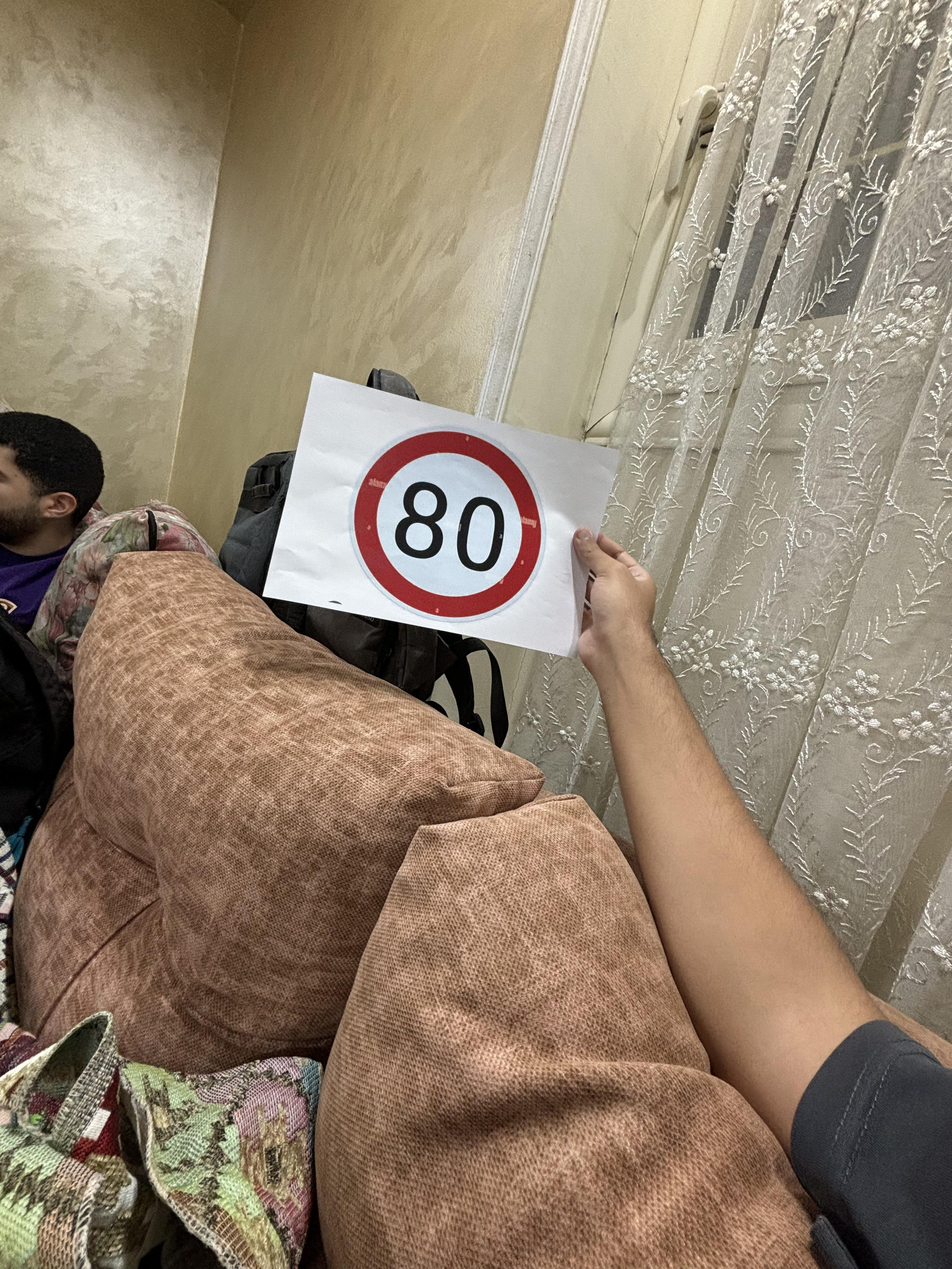80-Speed: (354, 429, 548, 618)
